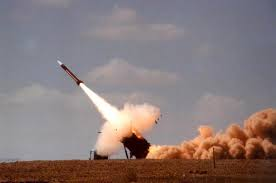ten_lua: (53, 60, 85, 87)
